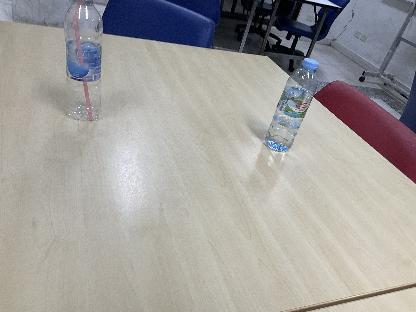Plastic Bottle: (264, 57, 320, 154), (64, 0, 104, 122)
